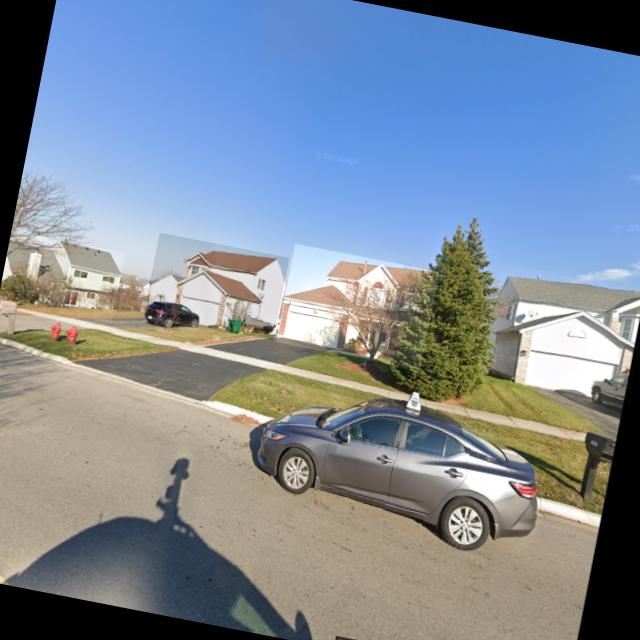House: (481, 263, 640, 405), (276, 244, 439, 370), (143, 232, 290, 340), (0, 230, 125, 323)
